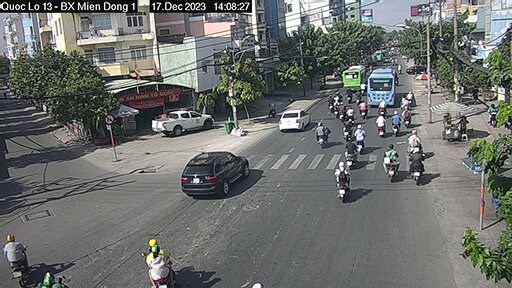bus: (366, 68, 398, 108), (342, 66, 367, 87)
car: (181, 146, 253, 198), (150, 108, 216, 136), (277, 106, 313, 134)
motorbike: (142, 232, 179, 286), (2, 231, 36, 284), (402, 148, 425, 183), (380, 146, 402, 182), (333, 162, 352, 199), (313, 120, 334, 148), (375, 111, 393, 140), (343, 138, 361, 166), (388, 114, 404, 136), (401, 107, 416, 125), (356, 126, 368, 148)
